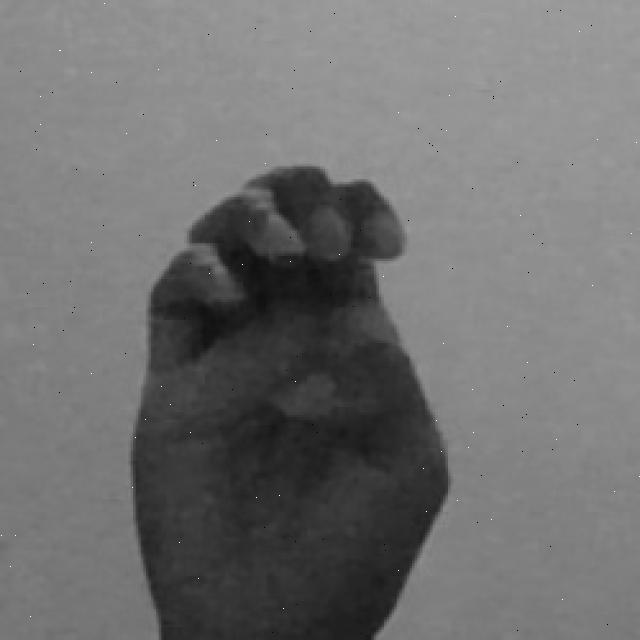E: (128, 161, 451, 640)
